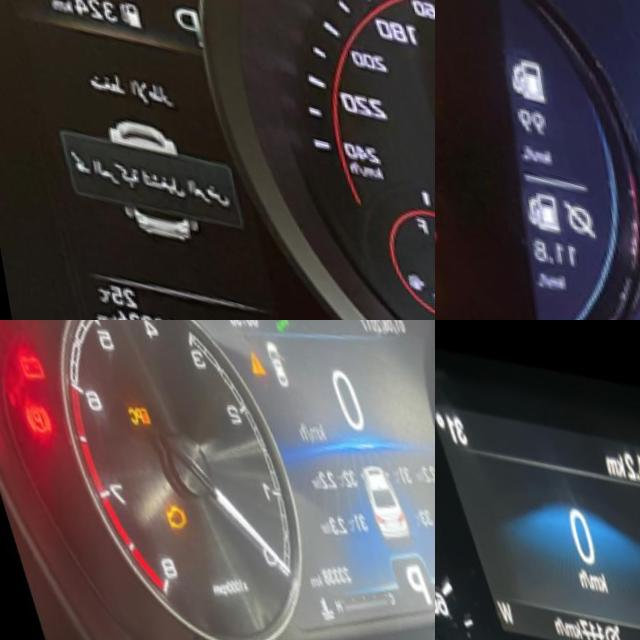Central Warning lamp: (238, 328, 264, 367)
